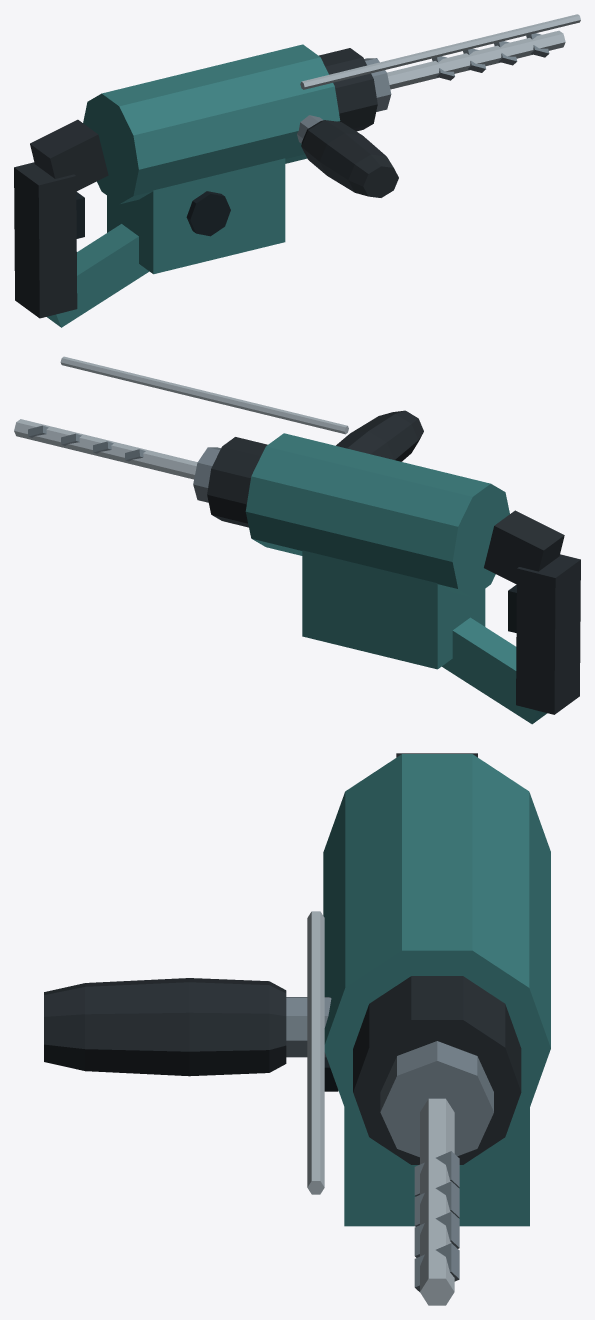
The model's file is b06_rotary_hammer.glb.
3 renders of one model, top to bottom at view 1: azimuth 30°, elevation 25°; view 2: azimuth 150°, elevation 25°; view 3: azimuth 270°, elevation 25°, orthographic. The views are drawn at different scales.
Visible parts, largest first — view 1: b06_rotary_hammer; view 2: b06_rotary_hammer; view 3: b06_rotary_hammer.
Part boxes in pixels (bbox=[...]): b06_rotary_hammer: bbox=[14, 14, 580, 327]; b06_rotary_hammer: bbox=[14, 356, 580, 724]; b06_rotary_hammer: bbox=[44, 753, 550, 1305].
Size of the model in its own units: 0.4995 by 0.1854 by 0.205.
